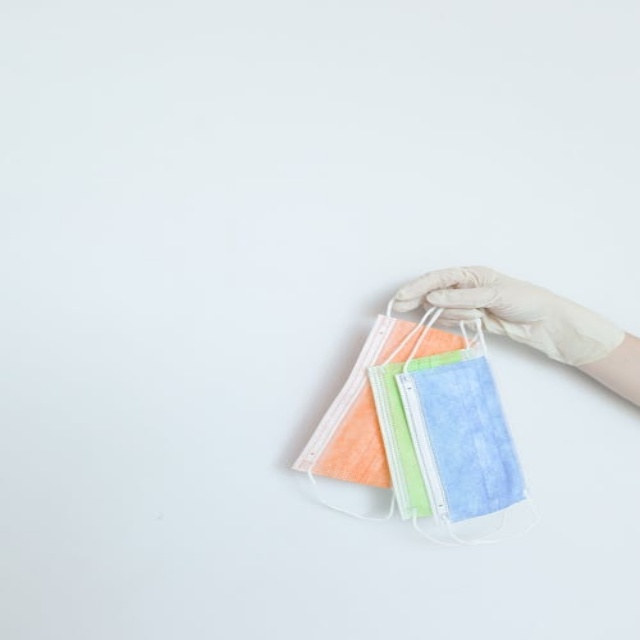Guantes: (389, 266, 625, 367)
